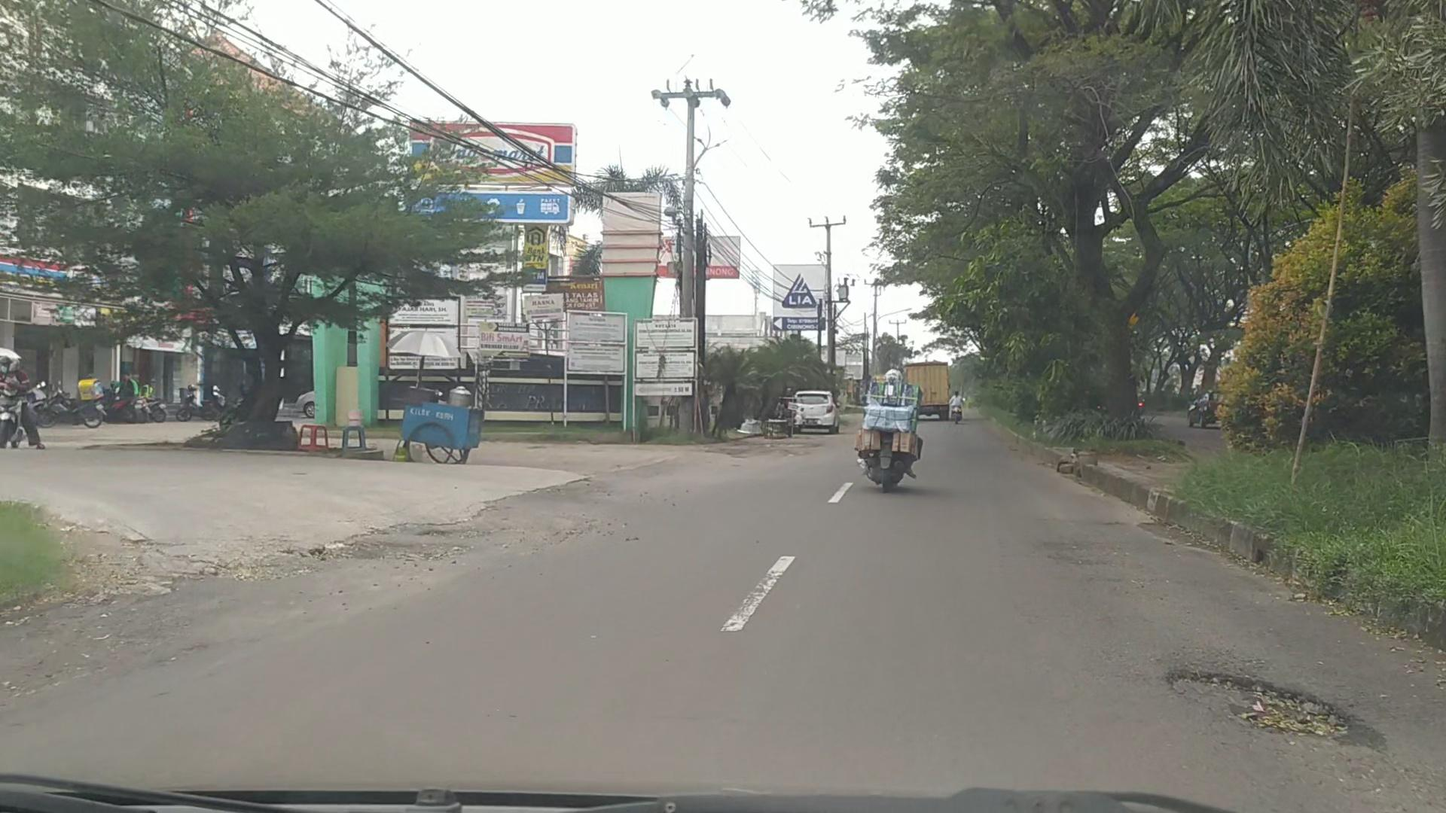pothole: (1170, 671, 1345, 735)
